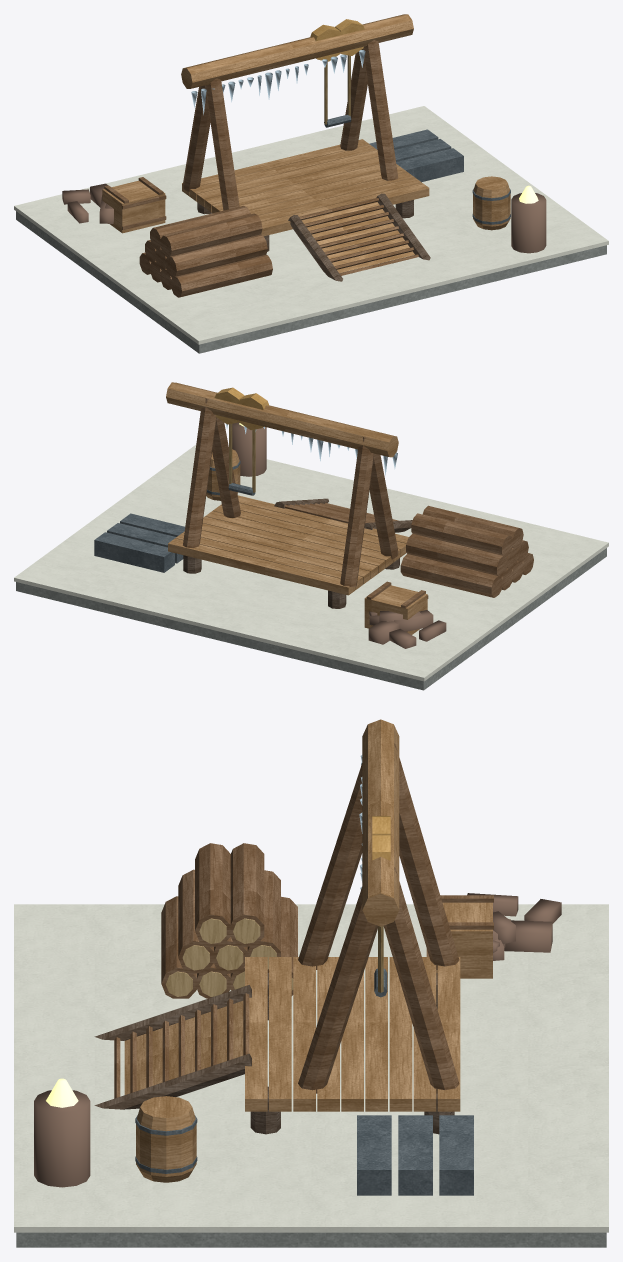
The model's file is BLD_SALVAGE_v2.glb.
3 renders of one model, top to bottom at view 1: azimuth 30°, elevation 25°; view 2: azimuth 150°, elevation 25°; view 3: azimuth 270°, elevation 25°, orthographic. The views are drawn at different scales.
Parts seen in each view (by area): view 1: BLD_SALVAGE, salvage_iron_rusted, salvage_beam_icicles; view 2: BLD_SALVAGE, salvage_iron_rusted, salvage_beam_icicles; view 3: BLD_SALVAGE, salvage_iron_rusted.
Boxes of the visible parts, x1,y1,x2,y2 form: BLD_SALVAGE: [14, 14, 608, 353]; salvage_iron_rusted: [62, 183, 546, 253]; salvage_beam_icicles: [191, 50, 365, 114]; BLD_SALVAGE: [14, 382, 608, 690]; salvage_iron_rusted: [232, 422, 446, 648]; salvage_beam_icicles: [226, 424, 397, 475]; BLD_SALVAGE: [14, 719, 608, 1247]; salvage_iron_rusted: [34, 893, 561, 1187].
Size of the model in its own units: 7.04 by 3.05 by 5.49.
Materials: 12 (9 with a texture image).
